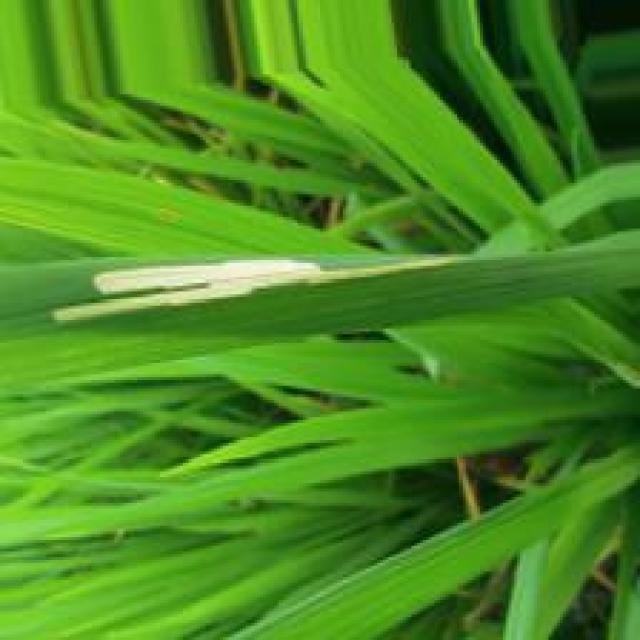Rice_Hispa: (45, 255, 458, 323)
